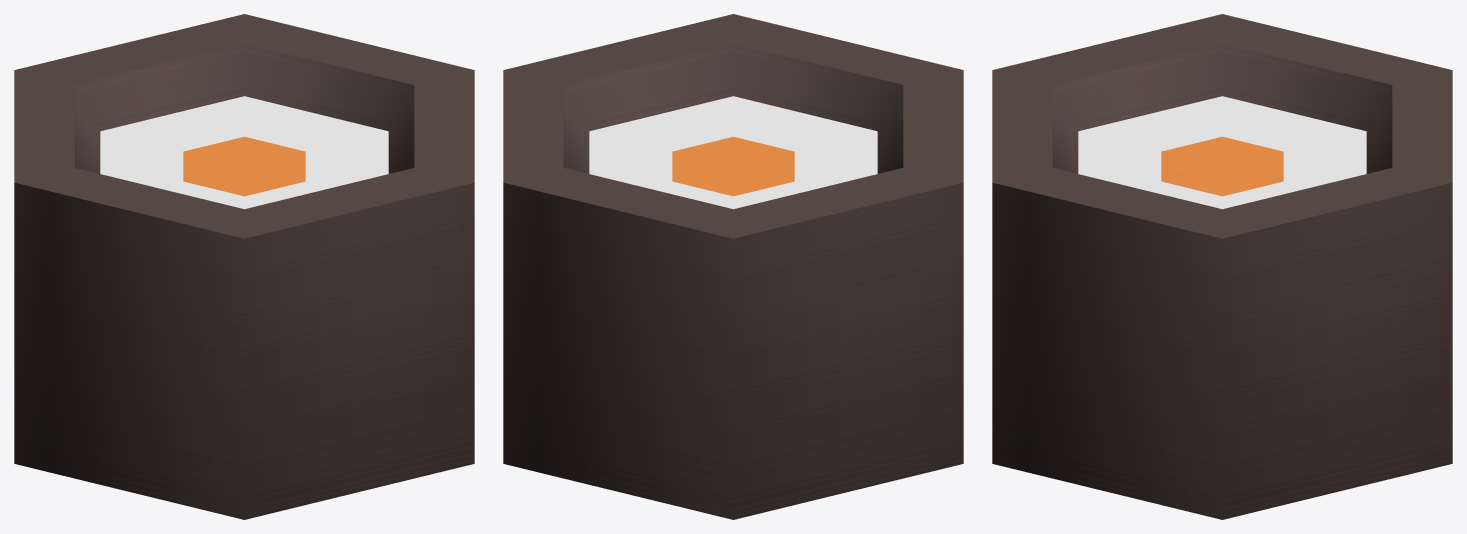
The model's file is maki-salmon.glb.
3 views of the same model, side by side, from view 1: azimuth 30°, elevation 25°; view 2: azimuth 150°, elevation 25°; view 3: azimuth 270°, elevation 25° (orthographic).
Parts seen in each view (by area): view 1: maki-salmon; view 2: maki-salmon; view 3: maki-salmon.
Part boxes in pixels (<box>): maki-salmon: <box>14,14,474,519</box>; maki-salmon: <box>503,14,963,519</box>; maki-salmon: <box>992,14,1452,519</box>.
Bounding box in the file's own units: 0.12 × 0.07 × 0.1039.
1 material, 1 textured.
